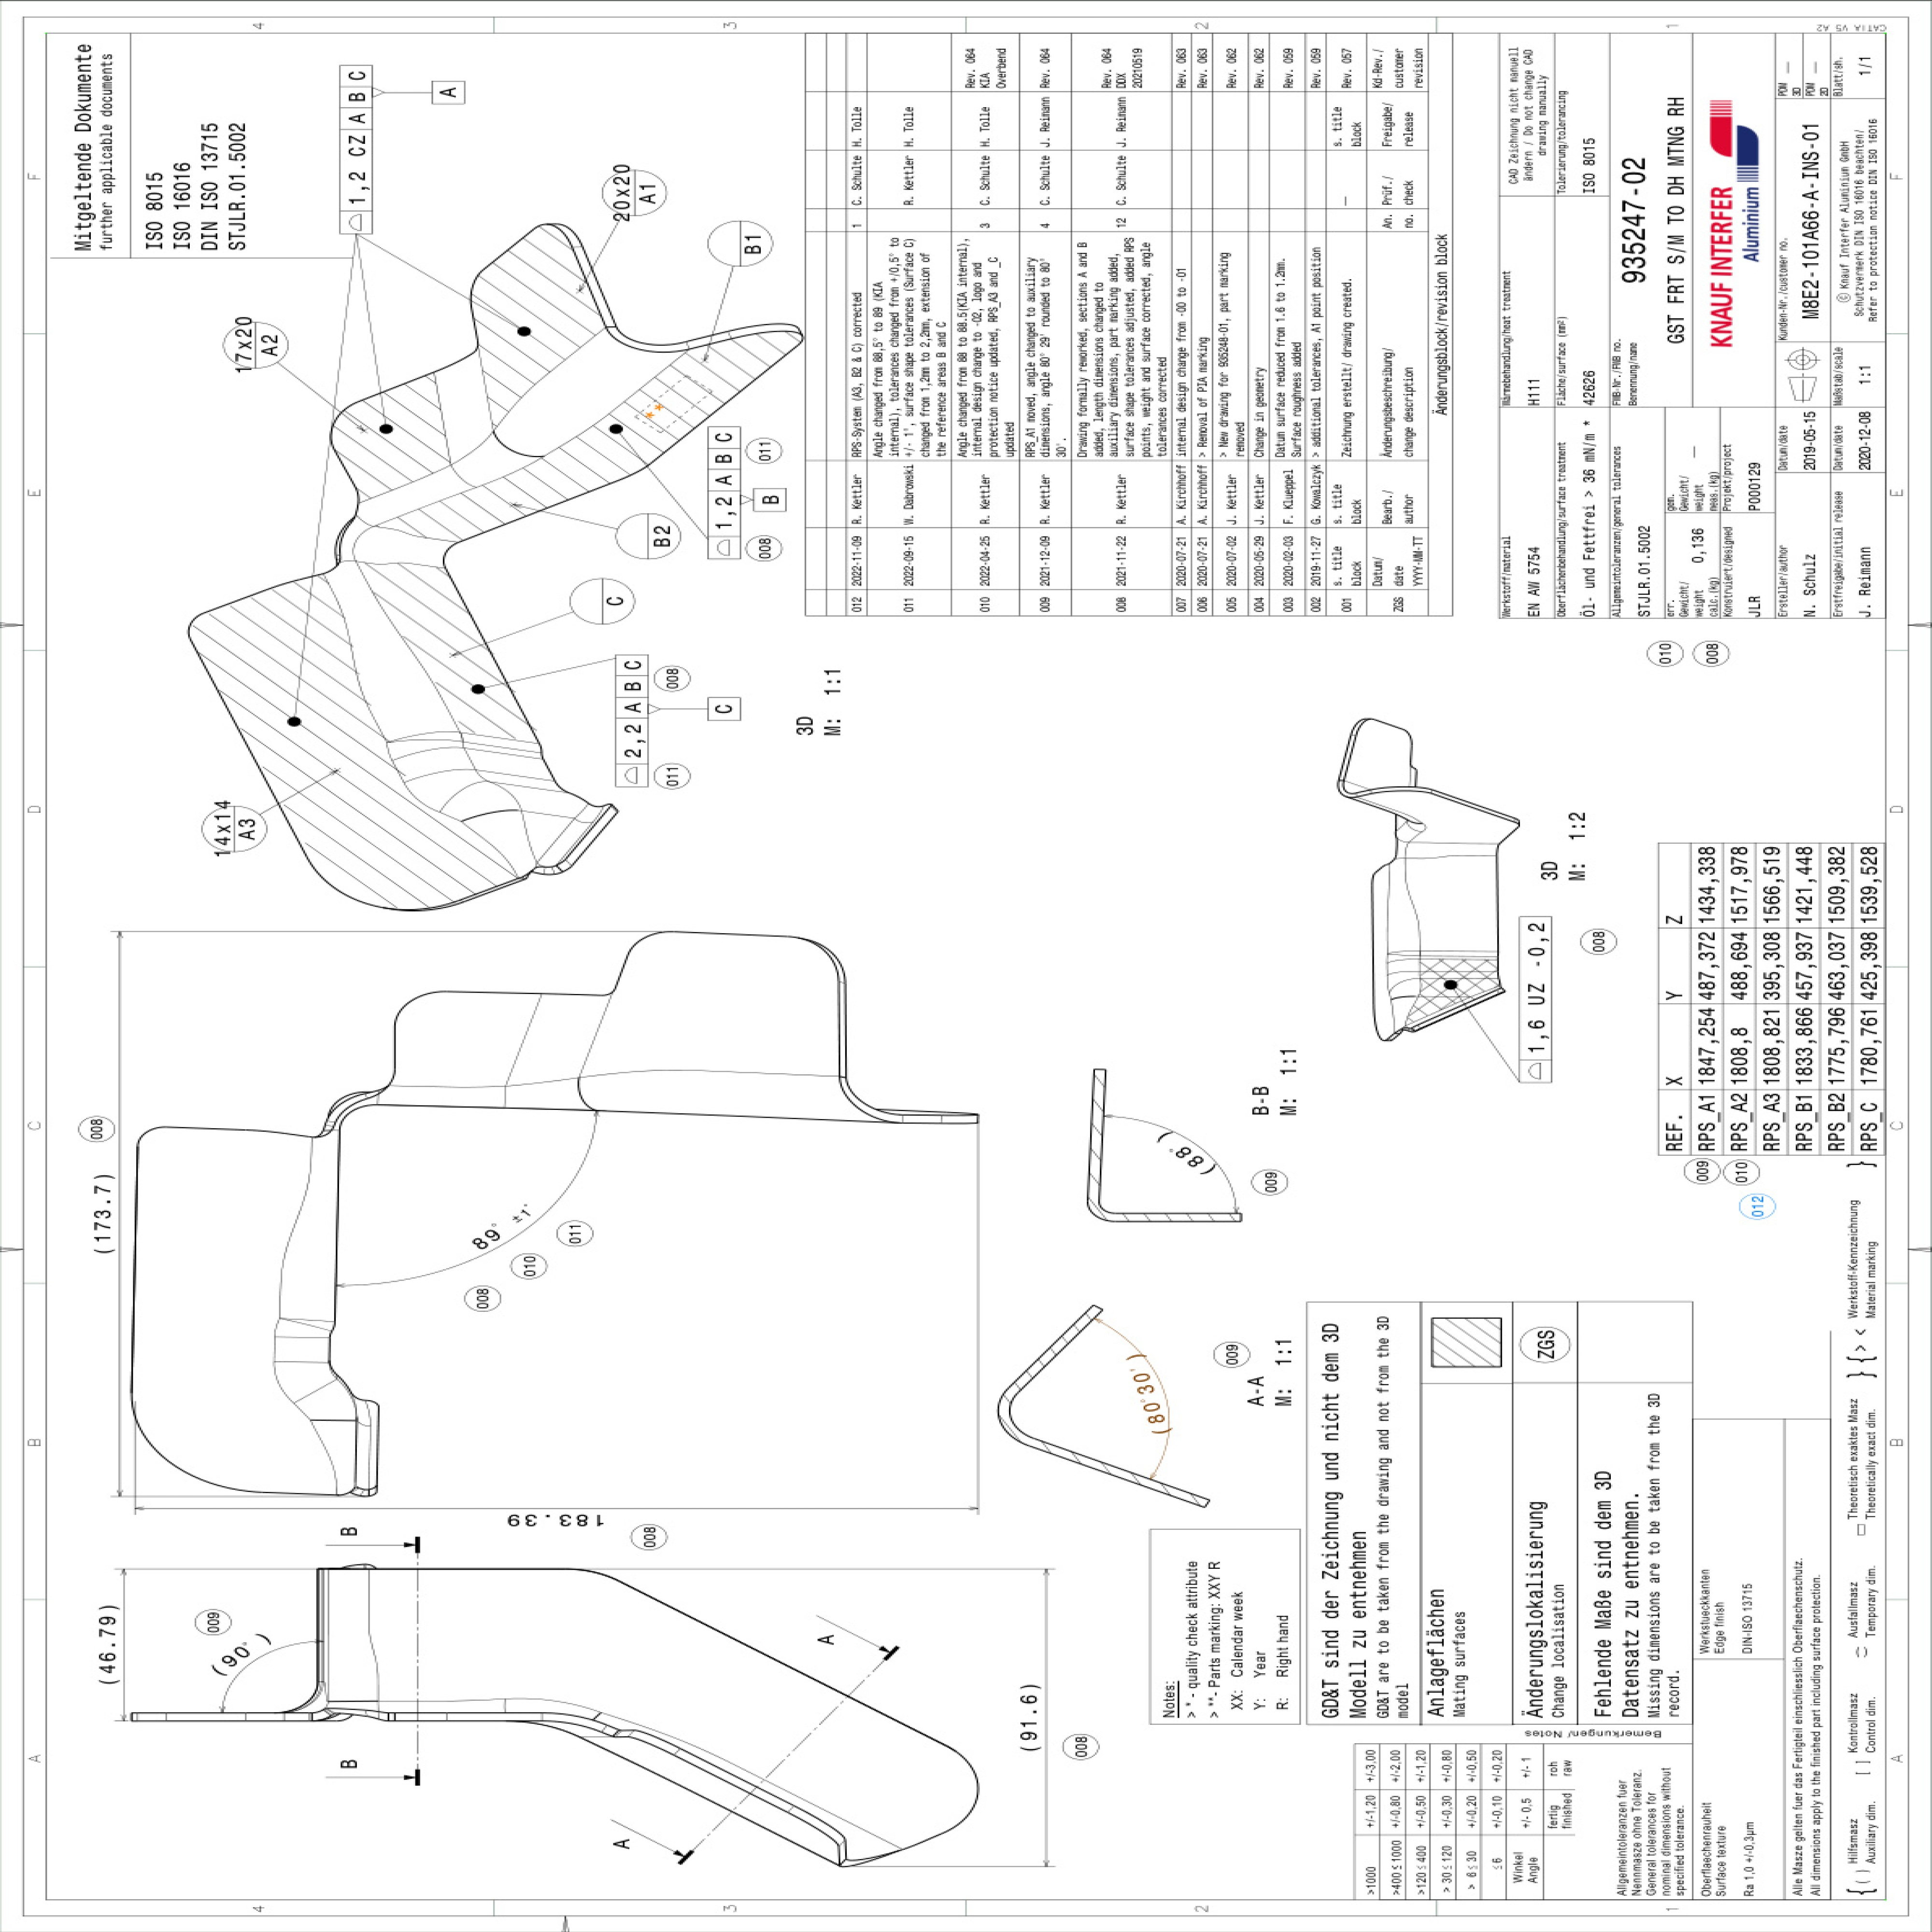BendingEdge: (487, 294, 676, 469), (326, 538, 458, 747), (354, 441, 495, 538), (278, 1136, 336, 1330), (428, 354, 502, 460), (536, 800, 623, 885), (333, 520, 451, 577), (301, 1070, 387, 1141), (439, 768, 518, 832), (453, 428, 525, 494), (393, 741, 474, 789), (276, 1353, 345, 1401), (313, 1419, 356, 1495), (354, 1394, 382, 1497), (299, 1384, 359, 1428), (476, 745, 547, 780), (513, 784, 582, 817), (272, 1336, 334, 1361), (387, 741, 448, 763)
